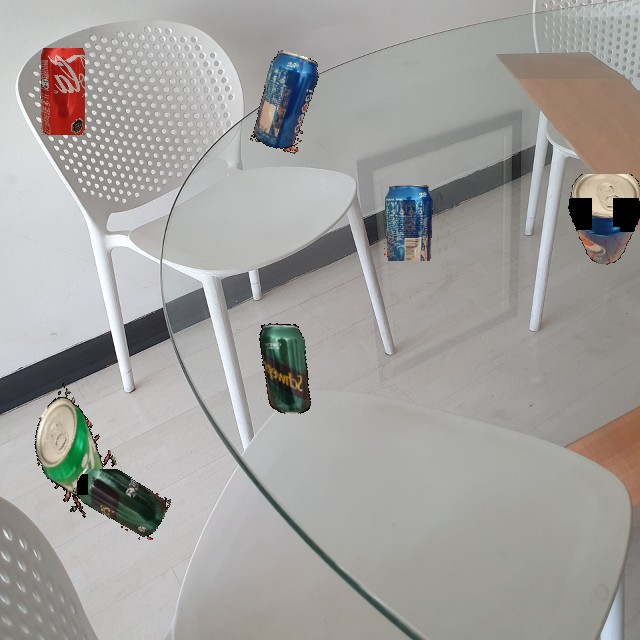coca cola: (41, 48, 85, 135)
pepsi: (249, 49, 323, 155), (562, 174, 640, 265), (384, 185, 433, 261)
schweppes: (246, 319, 324, 418), (72, 469, 171, 540)
sprite: (13, 382, 123, 524)
